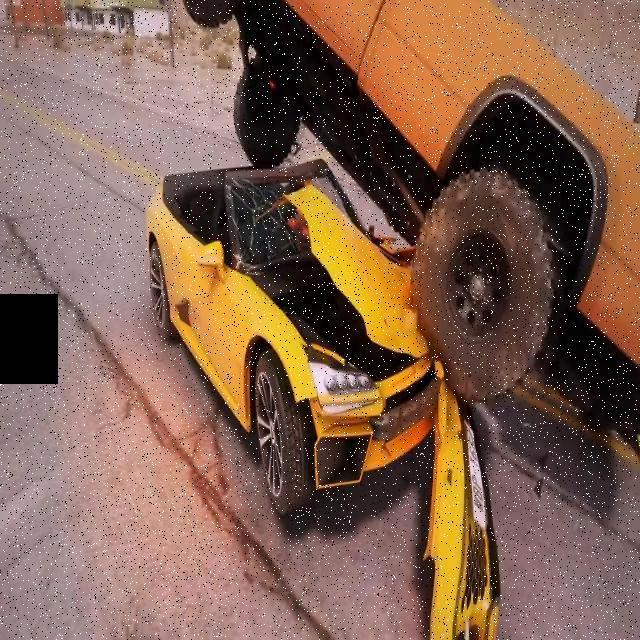accident: (142, 6, 635, 540)
